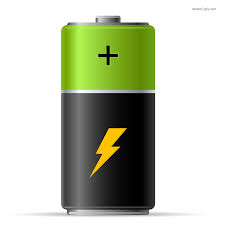charging sign: (35, 8, 175, 225)
